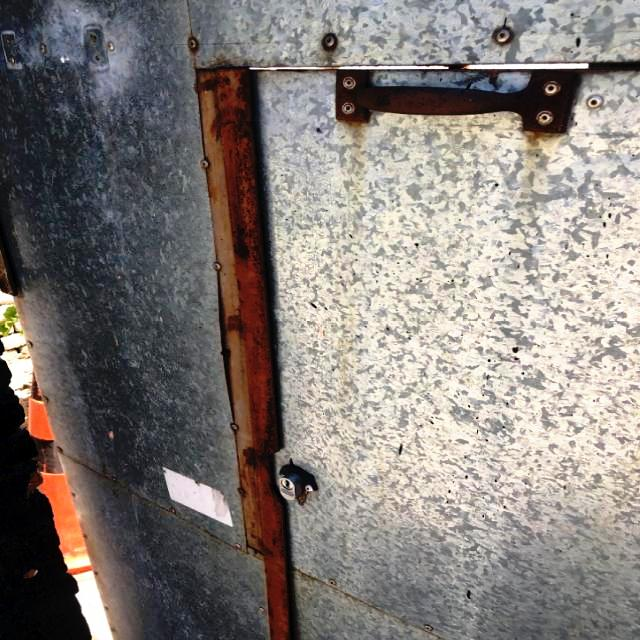Corrosion: (196, 71, 290, 640), (335, 70, 582, 132)
